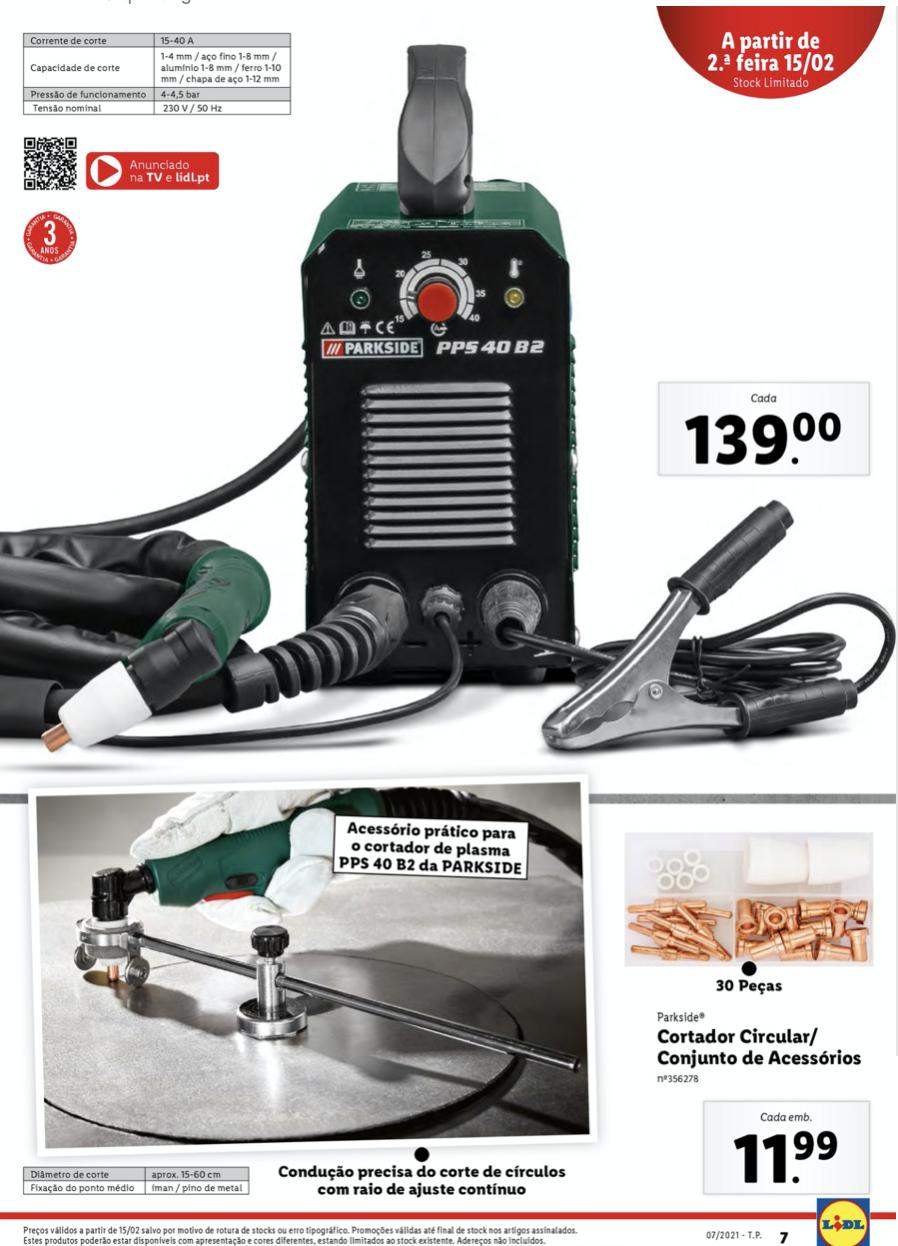name: (653, 1027, 872, 1068)
price: (681, 407, 852, 471), (733, 1130, 841, 1188)
product: (7, 10, 889, 758), (606, 814, 892, 1201)
